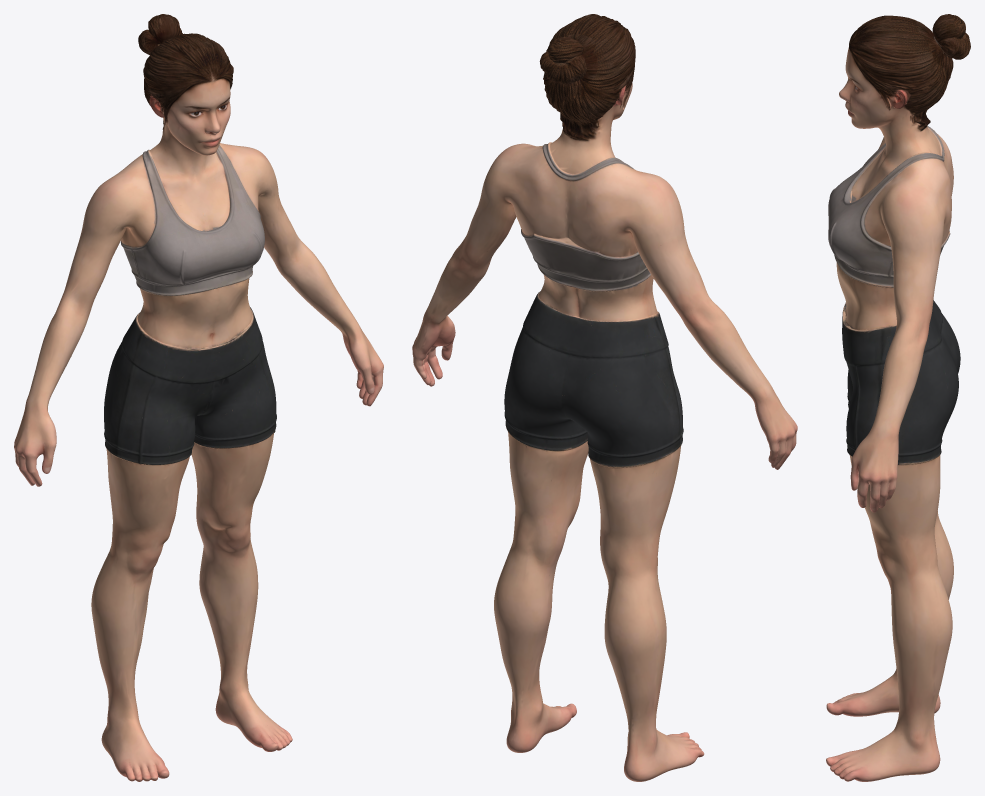
Rendered from woman-base-character.glb.
The picture shows the model from 3 angles, left to right: view 1: azimuth 30°, elevation 25°; view 2: azimuth 150°, elevation 25°; view 3: azimuth 270°, elevation 25°; orthographic projection. The views are drawn at different scales.
Visible parts, largest first — view 1: woman-base-character; view 2: woman-base-character; view 3: woman-base-character.
Boxes of the visible parts, bbox=[...] form: woman-base-character: bbox=[14, 14, 383, 781]; woman-base-character: bbox=[412, 14, 797, 781]; woman-base-character: bbox=[826, 14, 970, 781].
Bounding box in the file's own units: 0.9035 × 1.68 × 0.3025.
Materials: 1 (1 with a texture image).
